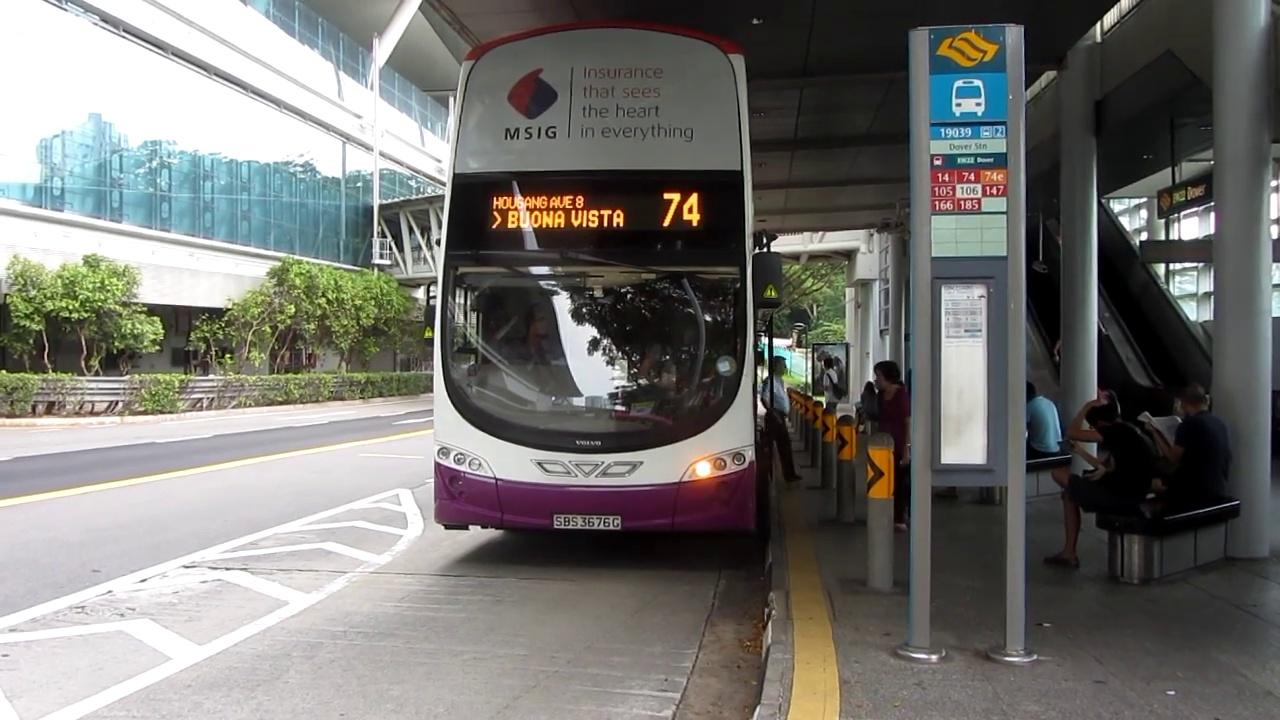bus panel: (487, 188, 706, 231)
